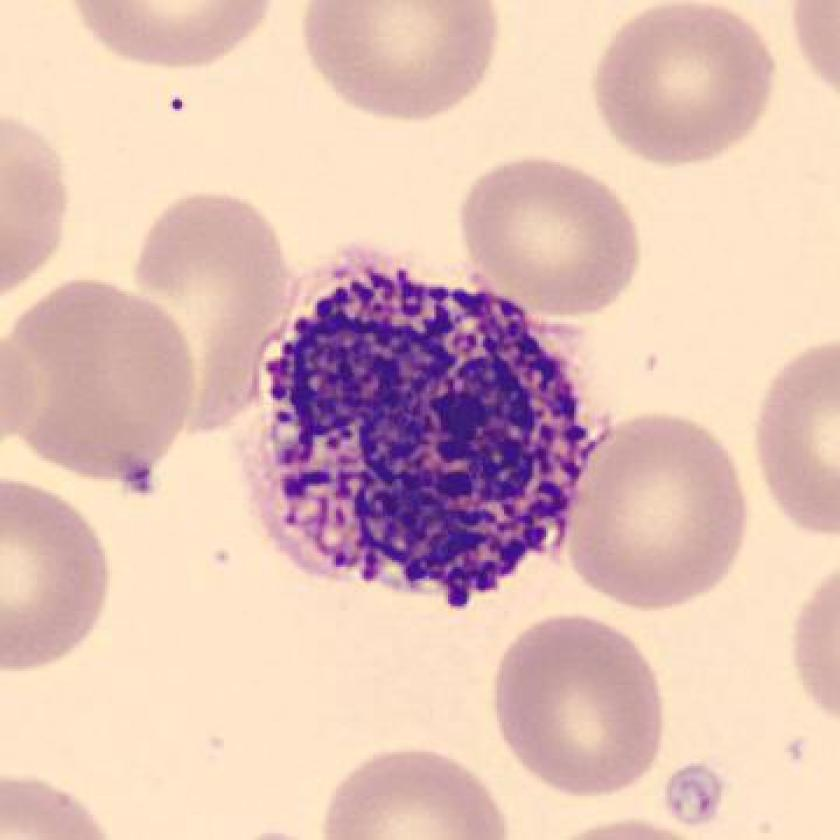basophil: (251, 265, 598, 607)
